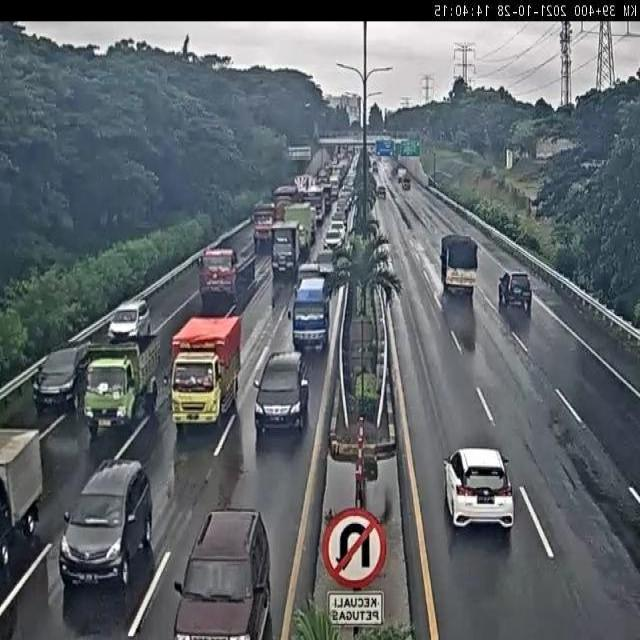Car: (431, 412, 541, 562), (34, 346, 92, 414), (108, 299, 152, 345), (498, 271, 532, 313)
Truck: (170, 508, 272, 637), (59, 458, 153, 587), (168, 314, 242, 428), (81, 332, 162, 436), (322, 439, 393, 535), (0, 429, 44, 573), (253, 350, 309, 436), (198, 241, 253, 311), (291, 273, 331, 352), (439, 234, 478, 299), (333, 274, 355, 388), (270, 219, 306, 280), (443, 293, 476, 351), (348, 316, 376, 379), (252, 204, 276, 254), (297, 262, 332, 296), (0, 479, 13, 569), (299, 182, 325, 225), (0, 582, 19, 640), (201, 246, 237, 276), (332, 254, 352, 296), (324, 219, 346, 251), (270, 276, 288, 315), (372, 436, 397, 462), (336, 191, 354, 227), (312, 250, 336, 276), (373, 240, 392, 271), (273, 185, 297, 209), (345, 198, 359, 239), (336, 143, 364, 162), (294, 174, 318, 196), (361, 454, 378, 483), (334, 153, 350, 183), (316, 135, 351, 147), (317, 168, 331, 195), (289, 146, 312, 162), (329, 166, 342, 194), (273, 200, 289, 222), (258, 202, 276, 221), (528, 196, 544, 217), (367, 171, 377, 203), (306, 212, 316, 244), (373, 154, 390, 172), (429, 170, 447, 186), (329, 216, 345, 233), (352, 150, 362, 176), (580, 160, 606, 170), (345, 178, 356, 198), (394, 138, 406, 156), (322, 231, 333, 249), (408, 138, 420, 154), (461, 148, 480, 158), (362, 136, 379, 147), (536, 150, 554, 160), (331, 146, 341, 163), (421, 123, 430, 141), (312, 120, 320, 140), (374, 139, 384, 154), (350, 118, 360, 133), (506, 149, 513, 170), (377, 148, 393, 157), (397, 167, 406, 182), (375, 163, 384, 178), (376, 185, 386, 198), (378, 136, 392, 145), (368, 157, 376, 172), (402, 177, 411, 190), (428, 175, 437, 188), (394, 165, 402, 178), (196, 255, 204, 268), (368, 145, 377, 156), (376, 151, 384, 163), (298, 224, 305, 235), (389, 180, 395, 191), (382, 130, 390, 136)
